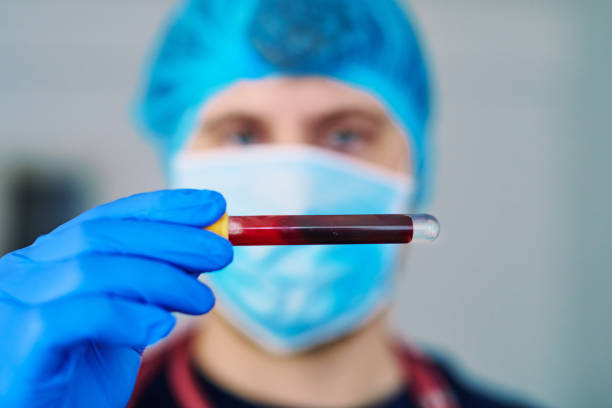blood: (226, 213, 417, 247)
